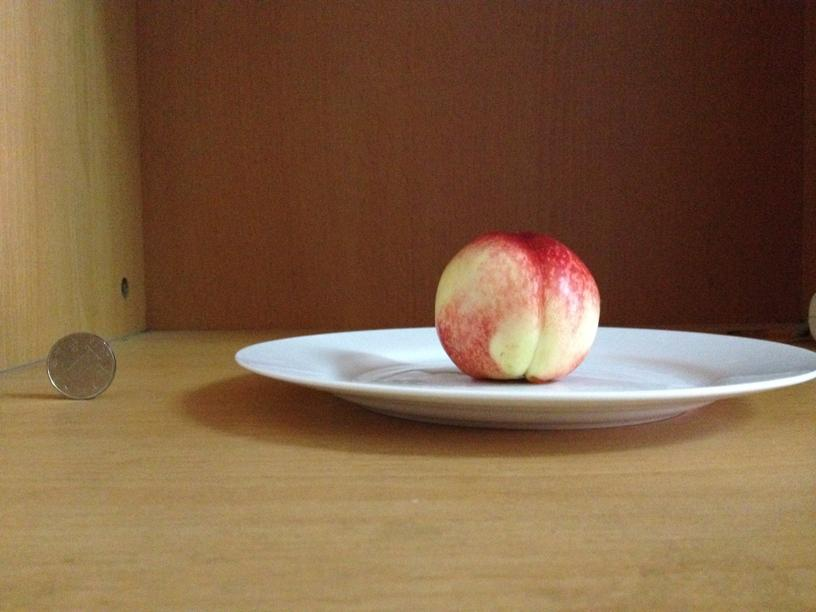coin: (47, 331, 114, 400)
peach: (435, 235, 600, 383)
